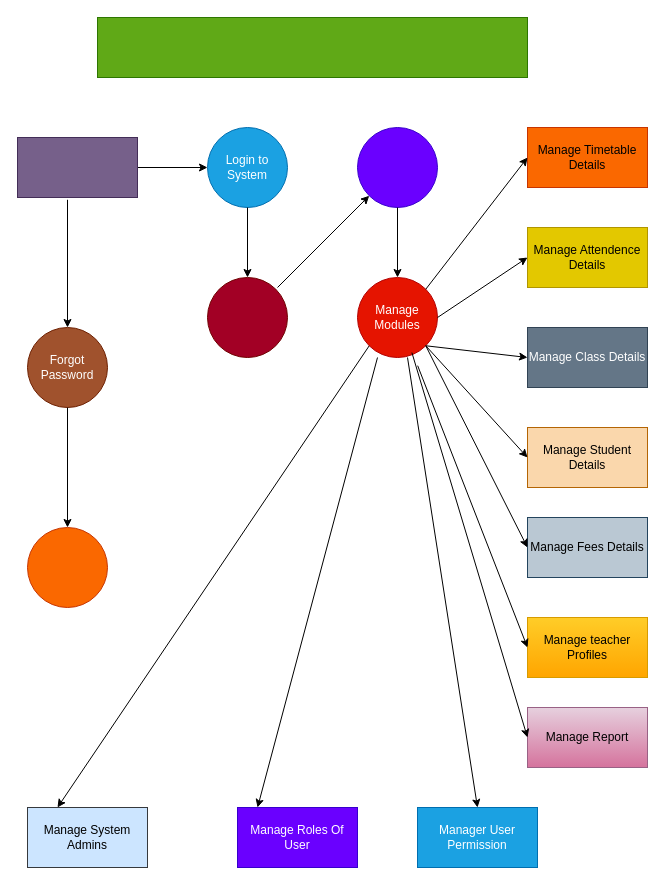
This 665x885 diagram has some shape labels left out. The centre of each missing label's shape, as x and y in pixels:
Admin: the point at 77,167
Check Credentials: the point at 247,317
Check Roles of Acces: the point at 397,167
Send System Admins: the point at 67,567
Student Information System: the point at 312,47
